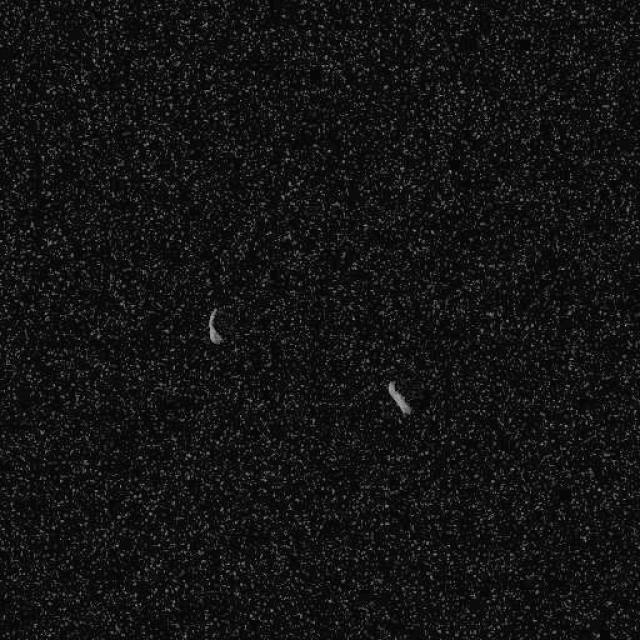D2: (387, 379, 412, 416), (206, 306, 224, 345)
